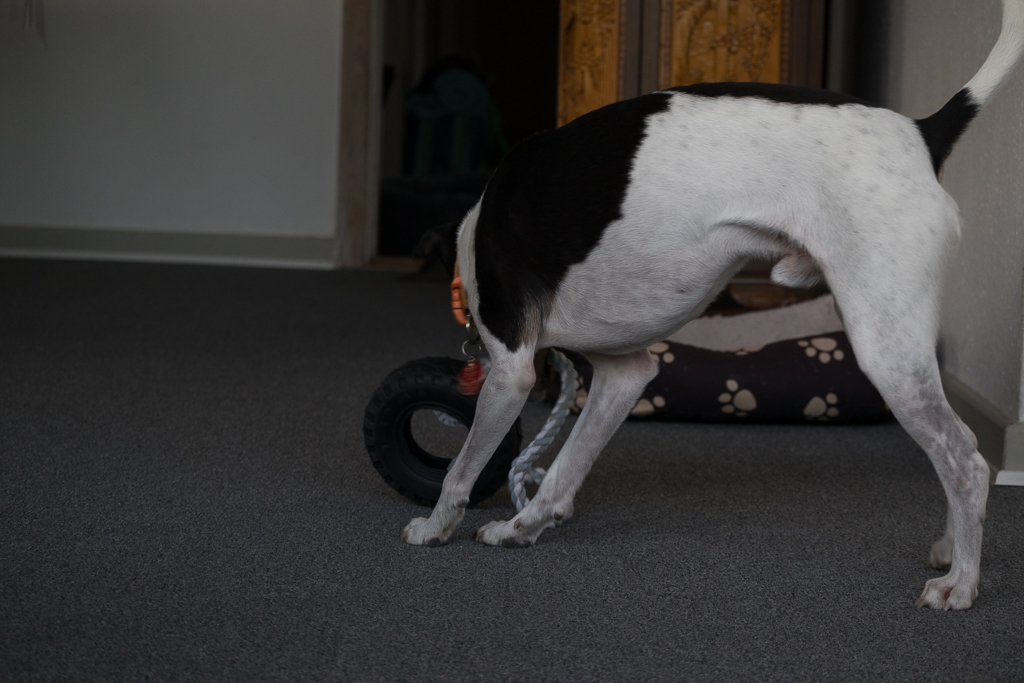Dog: (393, 0, 1024, 620)
